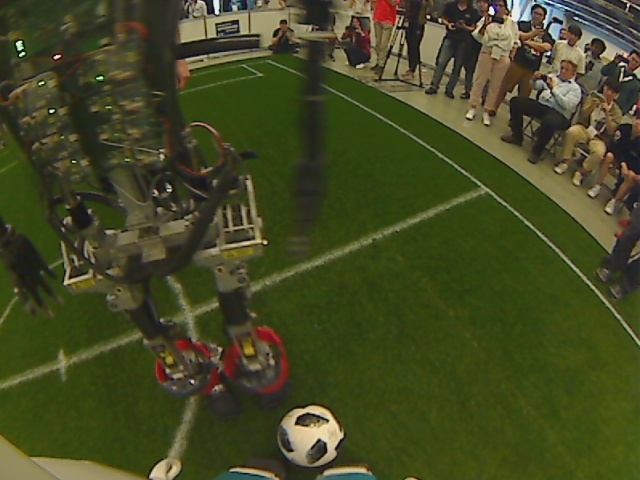ball: (275, 402, 346, 469)
robot: (156, 323, 286, 426)
